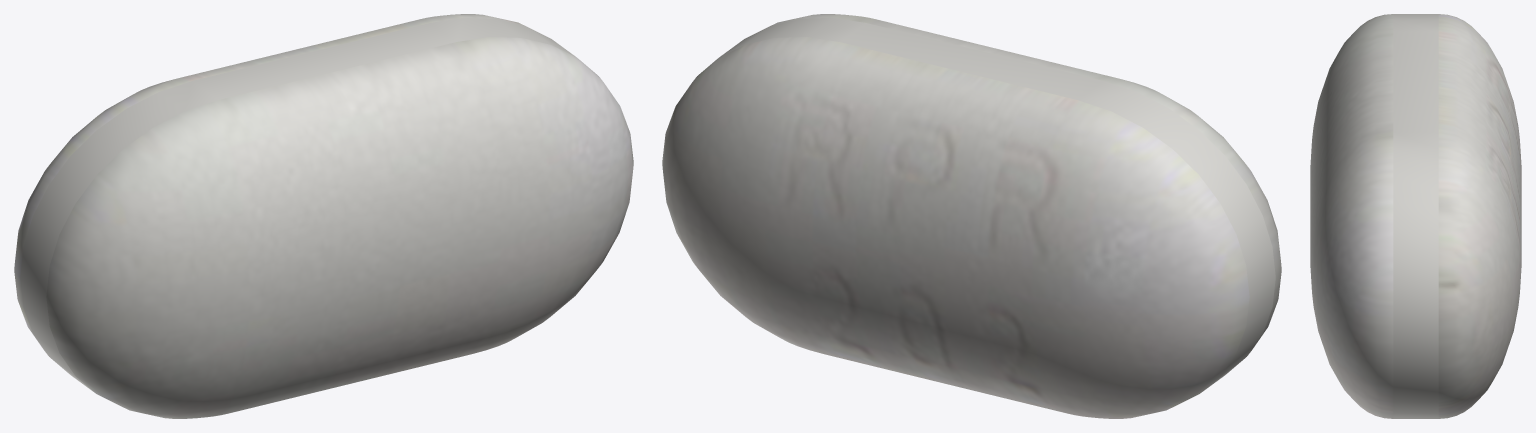
The model's file is 20140311GOPHDRGPT02384.fbx.
3 views of the same model, side by side, from view 1: azimuth 30°, elevation 25°; view 2: azimuth 150°, elevation 25°; view 3: azimuth 270°, elevation 25° (orthographic). The views are drawn at different scales.
Parts seen in each view (by area): view 1: 球體.027; view 2: 球體.027; view 3: 球體.027.
Boxes of the visible parts, box(x1,y1,x2,y2) form: 球體.027: box(14, 14, 633, 418); 球體.027: box(662, 14, 1281, 418); 球體.027: box(1310, 14, 1521, 418).
Bounding box in the file's own units: 0.9849 × 0.5015 × 0.357.
1 material, 1 textured.
